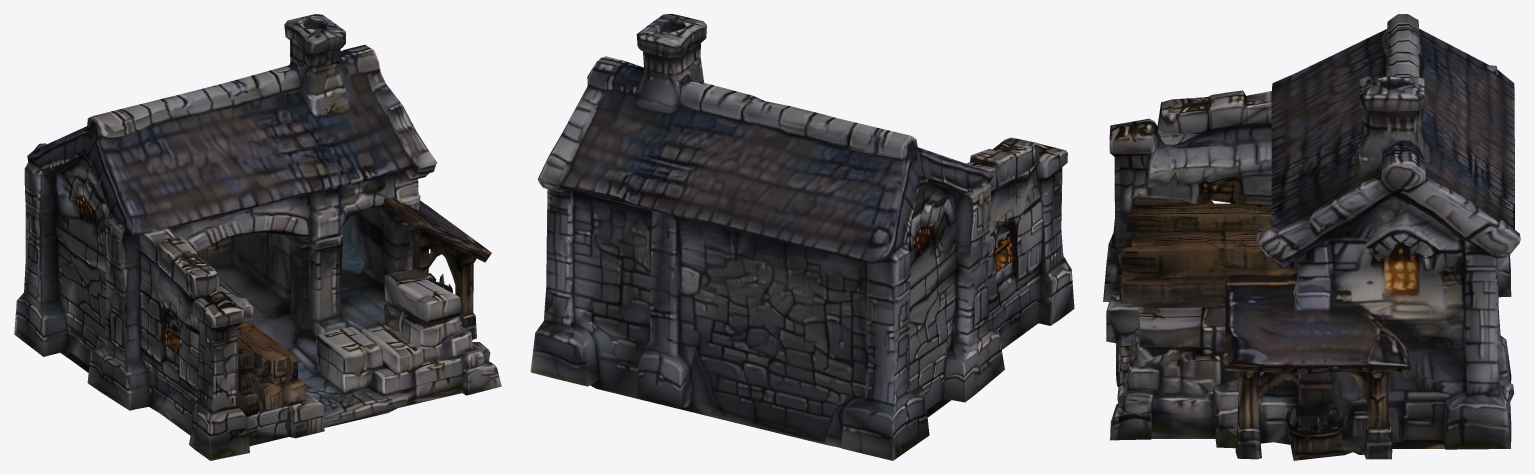
The model's file is n_house.glb.
3 views of the same model, side by side, from view 1: azimuth 30°, elevation 25°; view 2: azimuth 150°, elevation 25°; view 3: azimuth 270°, elevation 25° (orthographic). The views are drawn at different scales.
Visible parts, largest first — view 1: tripo_node_d6a47007-00e0-468a-8086-0317b500f43a; view 2: tripo_node_d6a47007-00e0-468a-8086-0317b500f43a; view 3: tripo_node_d6a47007-00e0-468a-8086-0317b500f43a.
Part boxes in pixels (<box>): tripo_node_d6a47007-00e0-468a-8086-0317b500f43a: <box>14,14,501,460</box>; tripo_node_d6a47007-00e0-468a-8086-0317b500f43a: <box>530,14,1074,460</box>; tripo_node_d6a47007-00e0-468a-8086-0317b500f43a: <box>1103,14,1520,460</box>.
Size of the model in its own units: 3.6 by 2.89 by 3.26.
Materials: 1 (1 with a texture image).
